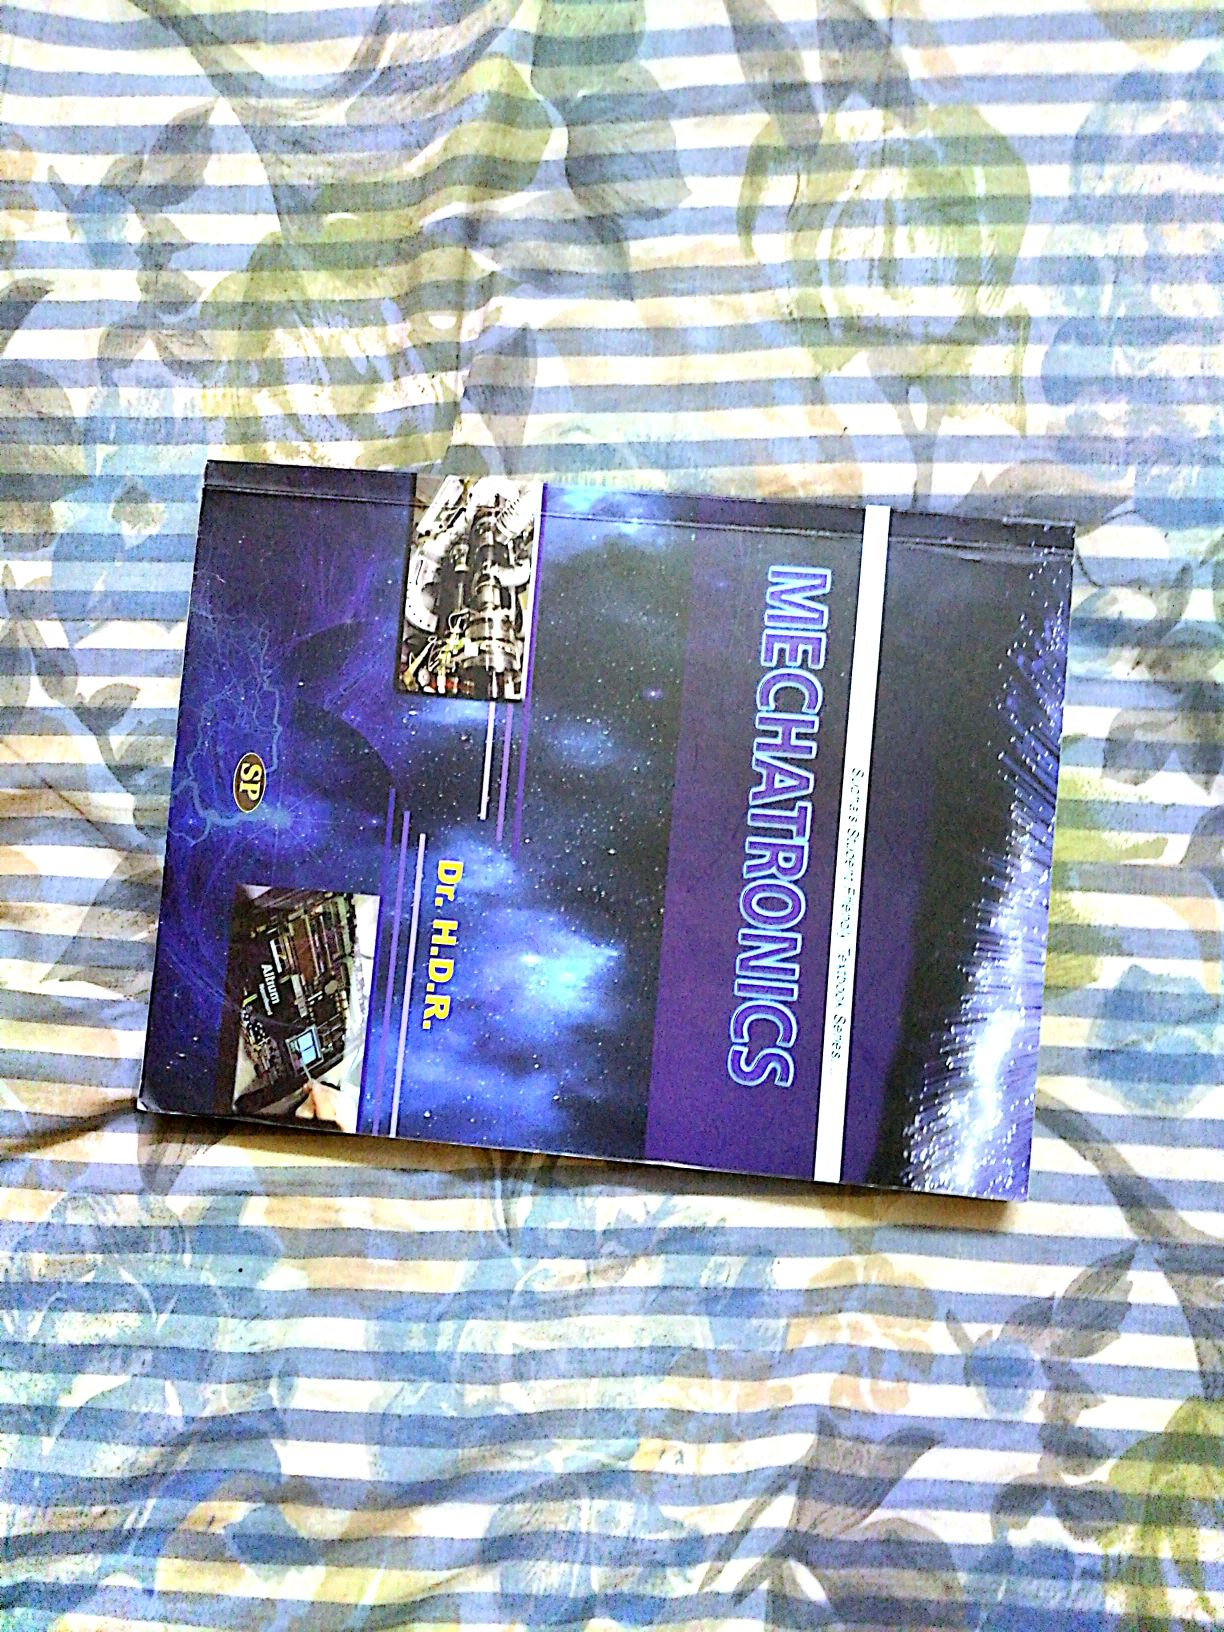mechatronics: (109, 432, 1139, 1243)
